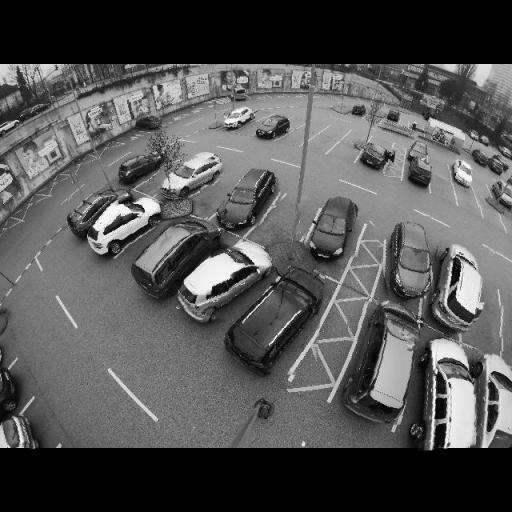busy: (223, 265, 323, 375), (348, 300, 431, 426), (410, 332, 488, 450), (176, 240, 270, 323), (133, 218, 211, 298), (428, 241, 492, 330), (377, 216, 444, 301), (215, 167, 284, 230), (300, 196, 361, 263), (88, 197, 158, 251), (475, 352, 512, 448), (157, 153, 221, 202), (68, 190, 121, 230), (0, 413, 42, 448), (117, 152, 158, 182), (358, 143, 392, 171), (253, 114, 289, 140), (404, 154, 431, 186), (220, 107, 255, 131), (490, 179, 512, 211), (449, 160, 474, 186), (136, 113, 162, 132), (486, 156, 509, 174), (470, 148, 490, 166), (348, 102, 366, 118), (334, 102, 350, 114), (478, 136, 492, 146)
free: (472, 302, 508, 338), (266, 207, 300, 233), (200, 185, 226, 205), (478, 206, 504, 224), (148, 171, 169, 189), (431, 178, 451, 196), (334, 144, 356, 160), (316, 131, 337, 146), (456, 190, 474, 207), (347, 130, 365, 147), (386, 159, 402, 175), (286, 132, 304, 146), (434, 163, 451, 176), (306, 124, 324, 135)
